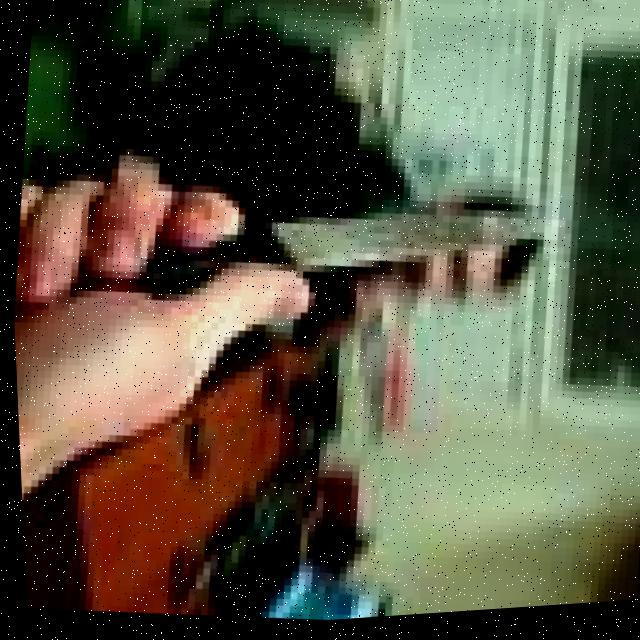knife: (122, 173, 567, 339)
